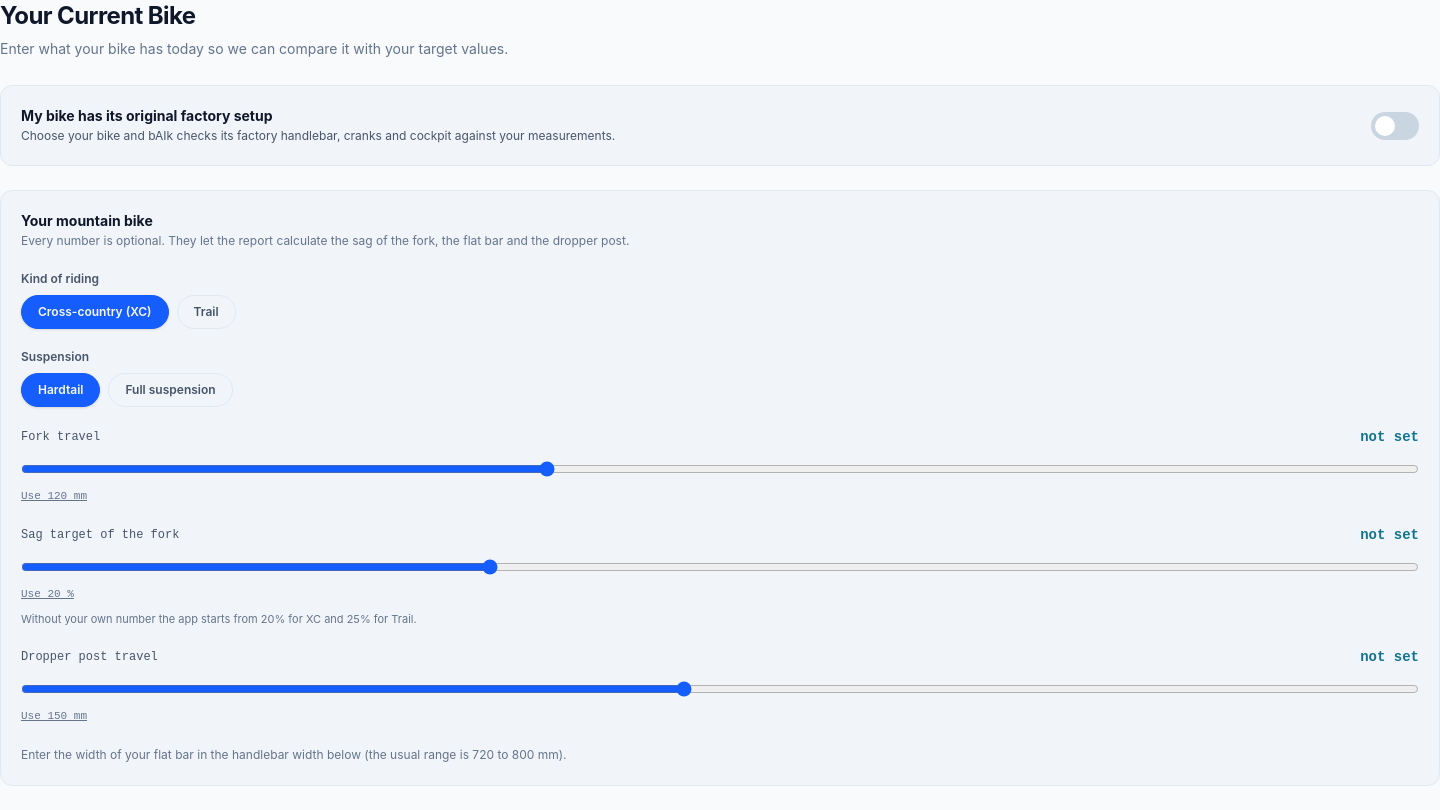
Test case: MTB setup in the wizard (en) › should let the rider take the starting value of a slider that shows "not set" (moving it away and back is not needed)
Click the button "Use 150 mm" at (54, 717), box [21,708,87,725]
(page scrolled)
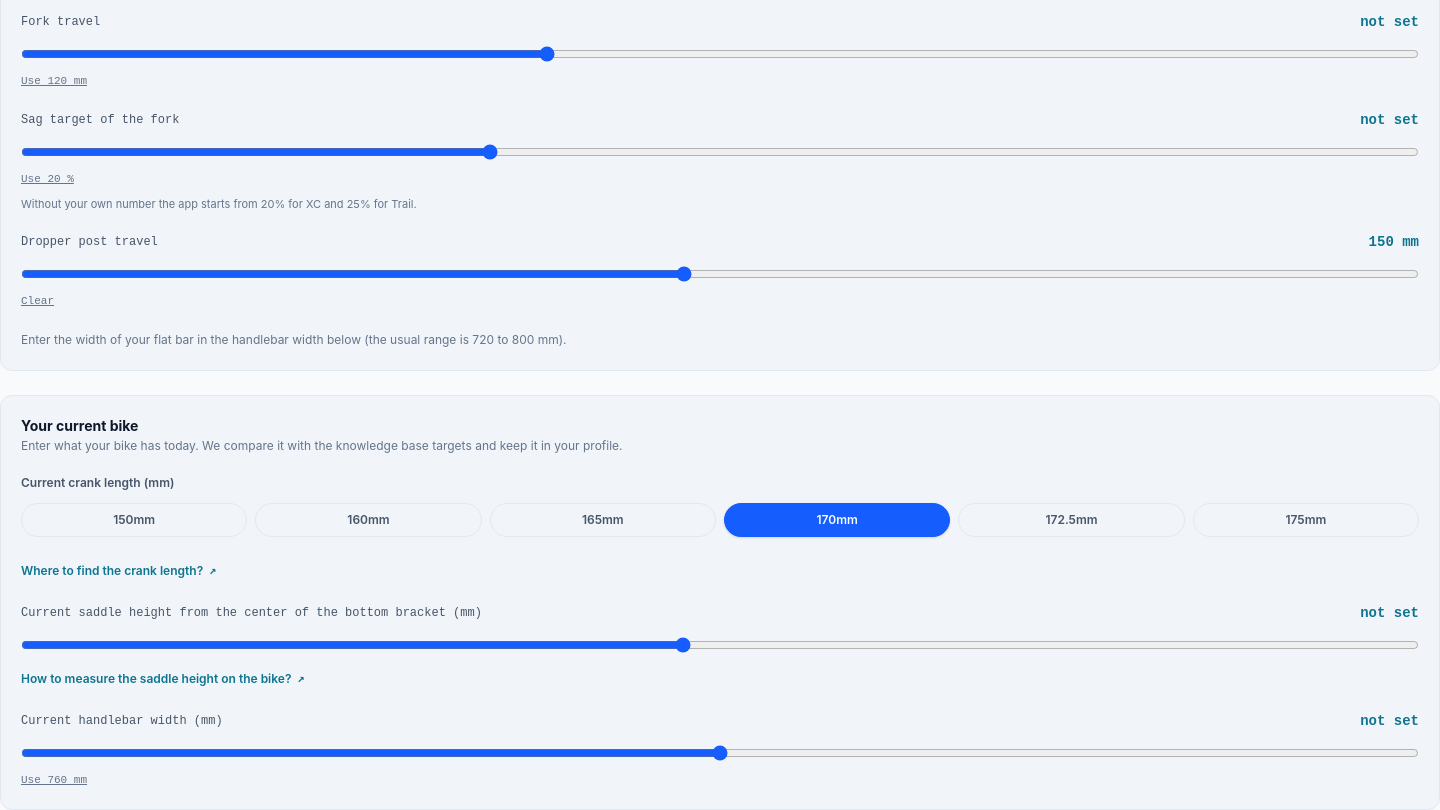
Expected: the element with test id "mtb-setup" shows "150 mm", [1369,234,1419,250]
Click the button "Use 760 mm" at (54, 781), box [21,772,87,789]
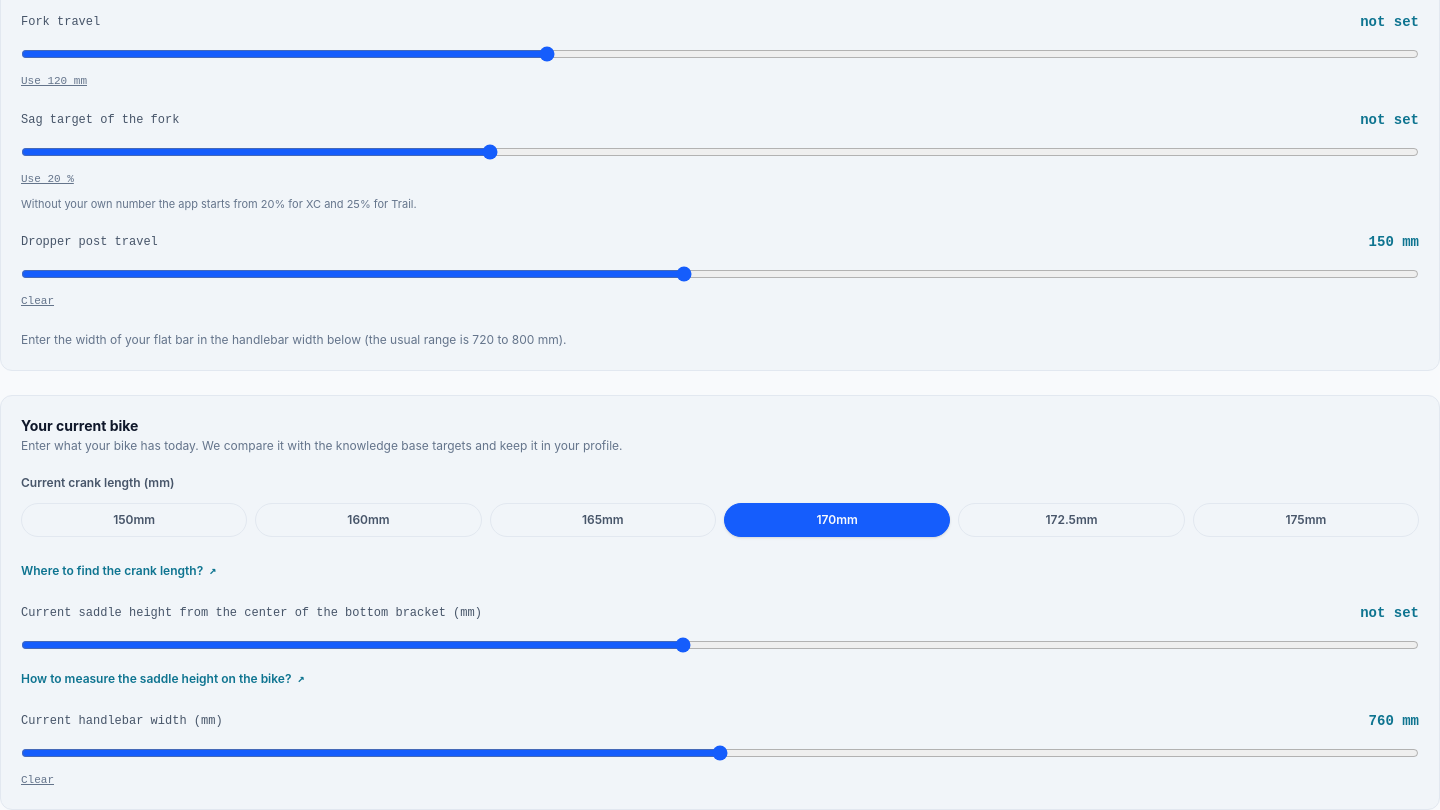
Expected: the slider labelled "Current handlebar width (mm)" holds "760", [21,749,1419,757]
Expected: the text "760 mm" is shown, [1369,711,1419,731]
